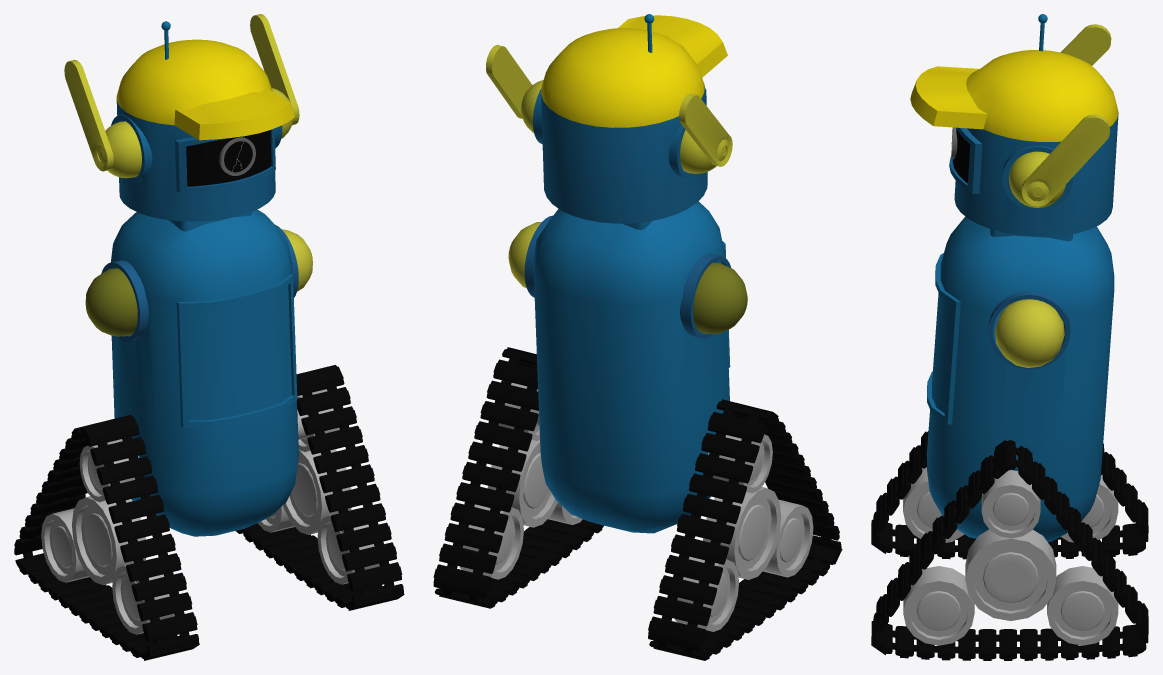
File: robot_export_V1 (2).fbx
The picture shows the model from 3 angles, left to right: view 1: azimuth 30°, elevation 25°; view 2: azimuth 150°, elevation 25°; view 3: azimuth 270°, elevation 25°; orthographic projection. The views are drawn at different scales.
Parts seen in each view (by area): view 1: Roundcube.001, tete, chenille.002, chenille.001, oreille gauche, roue droite.001, roue haut droite.001, Sphere, roue haut droite.002, roue droite.004, oreille droite, Cylinder (+4 smaller); view 2: Roundcube.001, tete, chenille.002, chenille.001, roue droite.001, roue haut droite.001, oreille gauche, Sphere, roue haut droite.002, oreille droite, roue droite.004, Cylinder (+3 smaller); view 3: Roundcube.001, tete, chenille.001, roue droite.004, chenille.002, roue haut droite.002, oreille droite, Sphere.001, roue droite.001, roue droite.003, Cylinder, oreille gauche (+1 smaller).
Boxes of the visible parts, x1,y1,x2,y2 form: Roundcube.001: (110,209,298,536); tete: (116,39,294,221); chenille.002: (14,415,199,660); chenille.001: (236,365,404,610); oreille gauche: (64,59,141,178); roue droite.001: (41,508,174,634); roue haut droite.001: (72,496,145,584); Sphere: (85,268,137,336); roue haut droite.002: (283,449,351,534); roue droite.004: (258,505,379,584); oreille droite: (250,14,299,138); Cylinder: (101,224,298,341); Roundcube.001: (533,201,730,533); tete: (541,15,727,223); chenille.002: (648,399,842,660); chenille.001: (433,347,603,608); roue droite.001: (675,499,813,631); roue haut droite.001: (703,487,781,579); oreille gauche: (679,93,732,173); Sphere: (693,262,747,333); roue haut droite.002: (487,440,557,527); oreille droite: (486,45,543,132); roue droite.004: (459,502,582,579); Cylinder: (524,215,731,338); Roundcube.001: (926,216,1114,542); tete: (910,50,1118,236); chenille.001: (871,440,1148,660); roue droite.004: (903,566,1118,645); chenille.002: (871,431,1148,559); roue haut droite.002: (965,529,1056,620); oreille droite: (1009,114,1109,207); Sphere.001: (995,299,1064,367); roue droite.001: (903,467,1118,542); roue droite.003: (981,470,1040,538); Cylinder: (988,291,1070,369); oreille gauche: (1060,24,1111,65).
Bounding box in the file's own units: 62.25 × 132 × 58.18.
